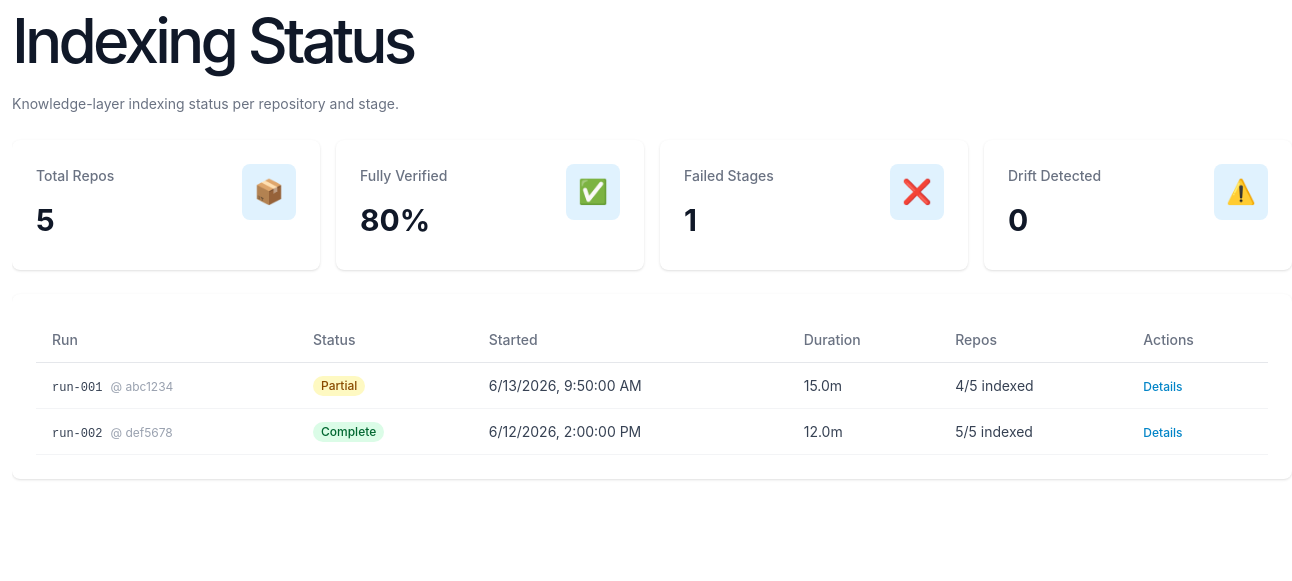
Scenario: IndexingStatus Page › expands a run to show per-stage detail
Expected: the text "Partial" is shown, 313,376 -> 365,396
# Click "Details" button for first run
Click the 1st button "Details" at (1163, 387), box 1143,379 -> 1182,395
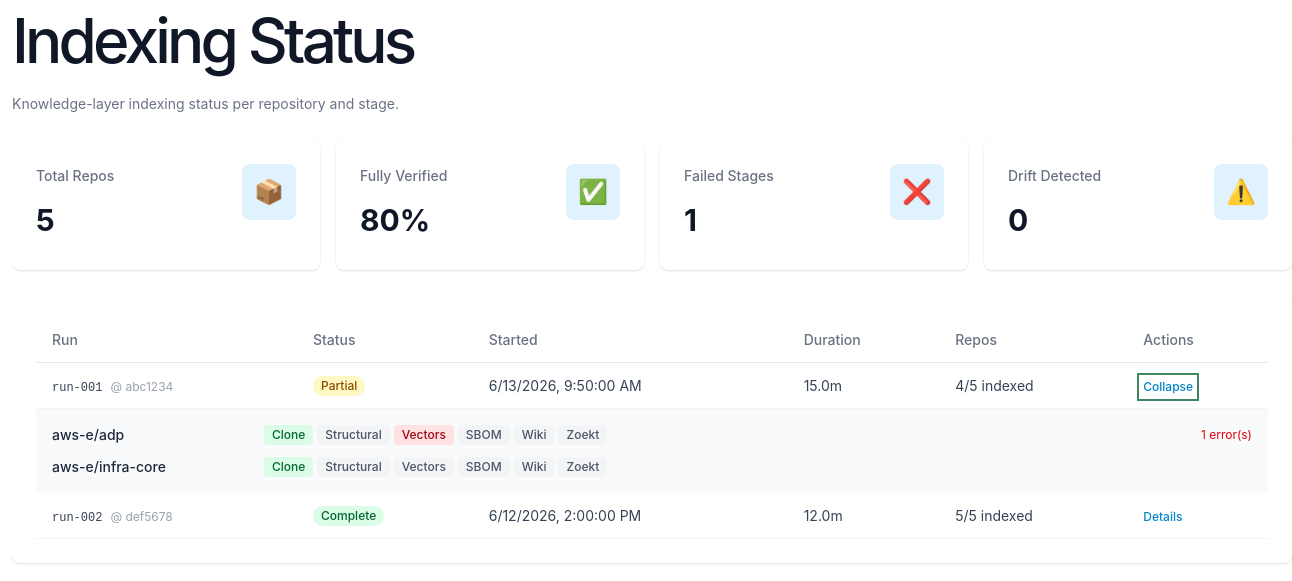
Expected: the text "aws-e/adp" is shown, 52,426 -> 124,443
Expected: the text "aws-e/infra-core" is shown, 52,458 -> 166,475
